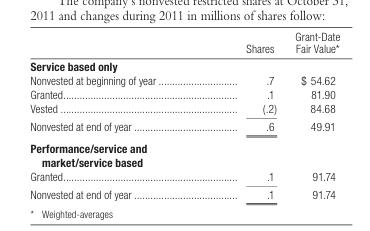table: (29, 29, 339, 200)
table column: (29, 29, 200, 200), (200, 29, 285, 200), (285, 29, 339, 200)
table column header: (29, 29, 339, 57)
table projected row header: (29, 136, 339, 169), (29, 57, 339, 73)
table row: (29, 136, 339, 169), (29, 29, 339, 57), (29, 117, 339, 136), (29, 57, 339, 73), (29, 101, 339, 117), (29, 184, 339, 200), (29, 169, 339, 184), (29, 73, 339, 87), (29, 87, 339, 101)
